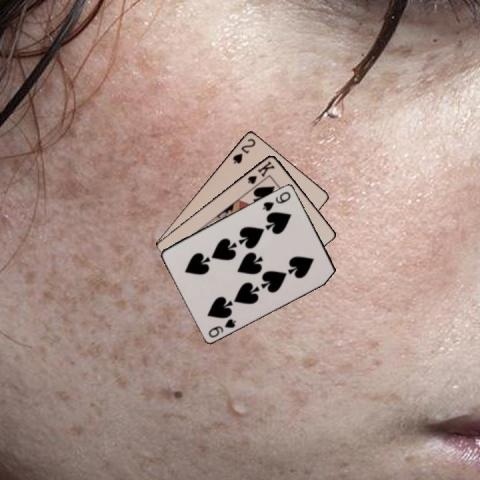2s: (229, 135, 257, 165)
9s: (259, 188, 292, 212), (206, 315, 238, 339)
Ks: (245, 158, 276, 185)
